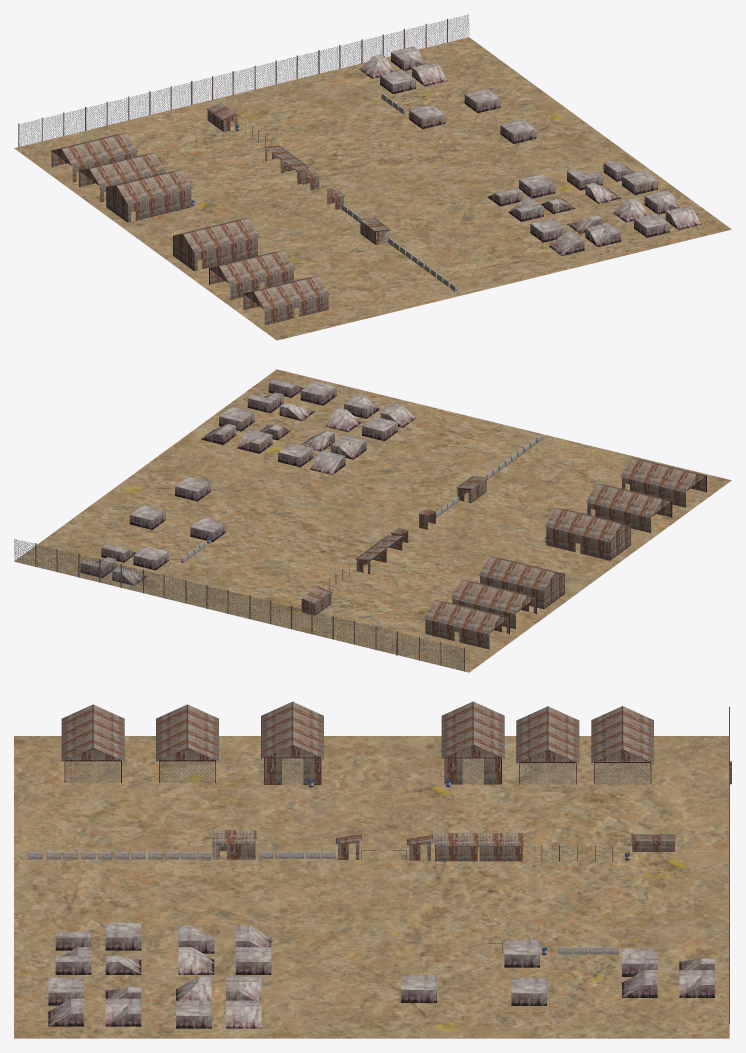
The model's file is Stage.fbx.
3 renders of one model, top to bottom at view 1: azimuth 30°, elevation 25°; view 2: azimuth 150°, elevation 25°; view 3: azimuth 270°, elevation 25°, orthographic. The views are drawn at different scales.
Visible parts, largest first — view 1: Plane, Shed_A_4, Shed_A_1, Shed_A_5.001, Shed_A_3, Shed_A_2, Shed_A, Shed_A.001, Shed_A_5, Shed_A_1.001, Square_Platform_2, Square_Platform_5 (+13 smaller); view 2: Plane, Shed_A_4.001, Shed_A_3, Shed_A, Shed_A_5, Shed_A_1, Shed_A_2, Shed_A_4, Shed_A_1.001, Shed_A.001, Square_Platform_5, Square_Platform_2 (+15 smaller); view 3: Plane, Shed_A_4, Shed_A_1, Shed_A_3, Shed_A_2, Shed_A, Shed_A_5, Shed_A_1.001, Shed_A_5.001, Shed_A.001, Shed_A_4.001, Leanto_B__2_ (+28 smaller).
Part boxes in pixels (x1,y1,x2,y2): Plane: (14, 37, 731, 340); Shed_A_4: (173, 218, 259, 270); Shed_A_1: (107, 169, 191, 222); Shed_A_5.001: (244, 276, 329, 325); Shed_A_3: (210, 250, 295, 299); Shed_A_2: (80, 153, 165, 202); Shed_A: (52, 133, 136, 182); Shed_A.001: (52, 133, 137, 177); Shed_A_5: (244, 277, 328, 324); Shed_A_1.001: (107, 170, 192, 209); Square_Platform_2: (464, 88, 500, 113); Square_Platform_5: (634, 213, 669, 237); Plane: (14, 369, 731, 672); Shed_A_4.001: (544, 507, 630, 559); Shed_A_3: (586, 483, 671, 532); Shed_A: (424, 600, 509, 649); Shed_A_5: (620, 458, 705, 507); Shed_A_1: (478, 556, 564, 609); Shed_A_2: (450, 579, 536, 629); Shed_A_4: (547, 509, 629, 560); Shed_A_1.001: (479, 564, 564, 608); Shed_A.001: (423, 600, 509, 642); Square_Platform_5: (300, 381, 336, 405); Square_Platform_2: (129, 505, 165, 529); Plane: (14, 736, 729, 1038); Shed_A_4: (261, 701, 323, 784); Shed_A_1: (441, 701, 504, 784); Shed_A_3: (156, 704, 218, 761); Shed_A_2: (516, 706, 579, 763); Shed_A: (591, 706, 653, 763); Shed_A_5: (62, 704, 124, 761); Shed_A_1.001: (442, 702, 504, 783); Shed_A_5.001: (61, 704, 119, 761); Shed_A.001: (591, 707, 653, 762); Shed_A_4.001: (261, 702, 323, 783); Leanto_B__2_: (478, 833, 523, 861).
Size of the model in its own units: 10001 by 620 by 10034.
30 materials, 30 textured.
